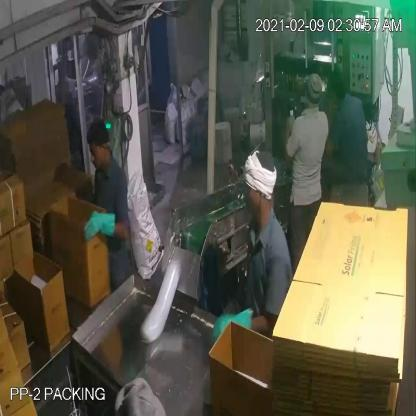glove: (200, 289, 260, 359), (78, 204, 123, 252)
